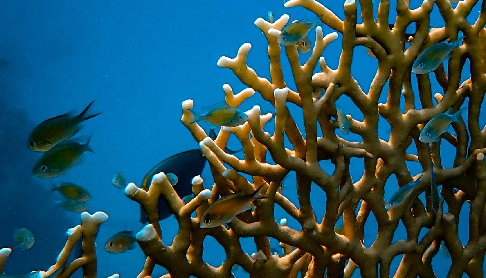fishRound: (134, 127, 245, 224)
fishSmall: (27, 98, 103, 153), (199, 182, 269, 230), (31, 131, 97, 180), (411, 35, 466, 75), (418, 106, 468, 145), (275, 14, 325, 47), (185, 103, 250, 128), (384, 177, 423, 211), (48, 180, 94, 202), (427, 162, 444, 213), (104, 230, 137, 256), (51, 197, 89, 217), (13, 228, 35, 254), (336, 102, 350, 136), (109, 171, 128, 190)
